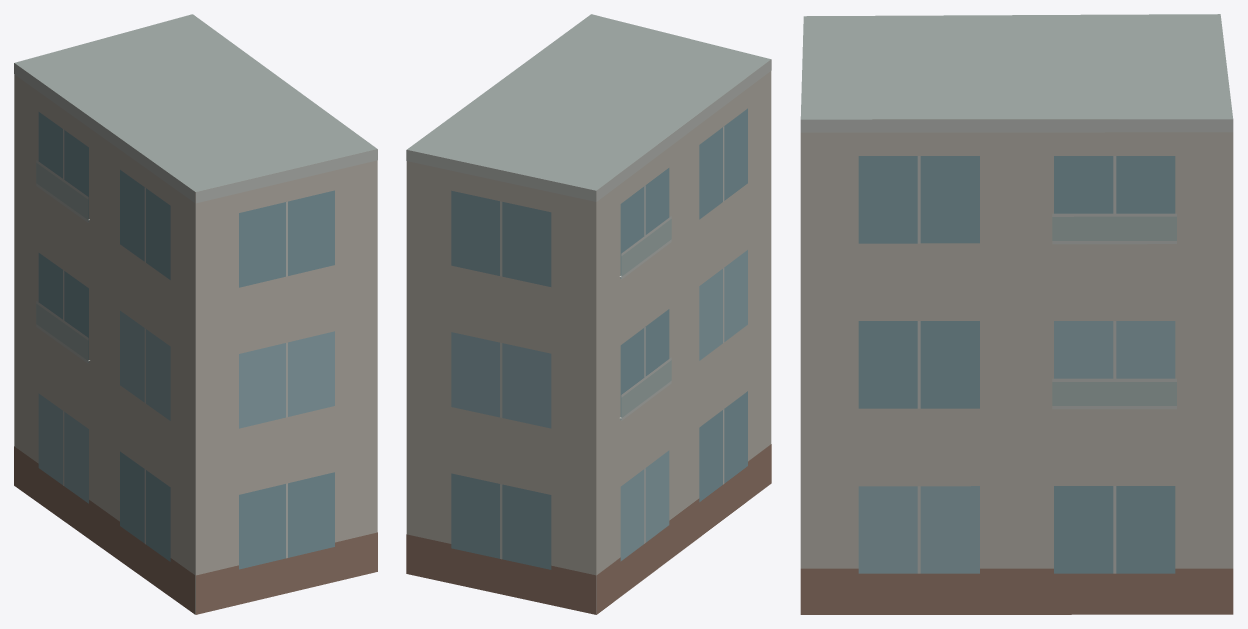
The model's file is survey-upis-33020587.glb.
3 views of the same model, side by side, from view 1: azimuth 30°, elevation 25°; view 2: azimuth 150°, elevation 25°; view 3: azimuth 270°, elevation 25° (orthographic). The views are drawn at different scales.
Visible parts, largest first — view 1: survey-upis-33020587.tmp; view 2: survey-upis-33020587.tmp; view 3: survey-upis-33020587.tmp.
Boxes of the visible parts, <box> form: survey-upis-33020587.tmp: <box>14,14,377,614</box>; survey-upis-33020587.tmp: <box>406,14,771,614</box>; survey-upis-33020587.tmp: <box>800,14,1233,614</box>.
Size of the model in its own units: 4.24 by 9.15 by 7.25.
